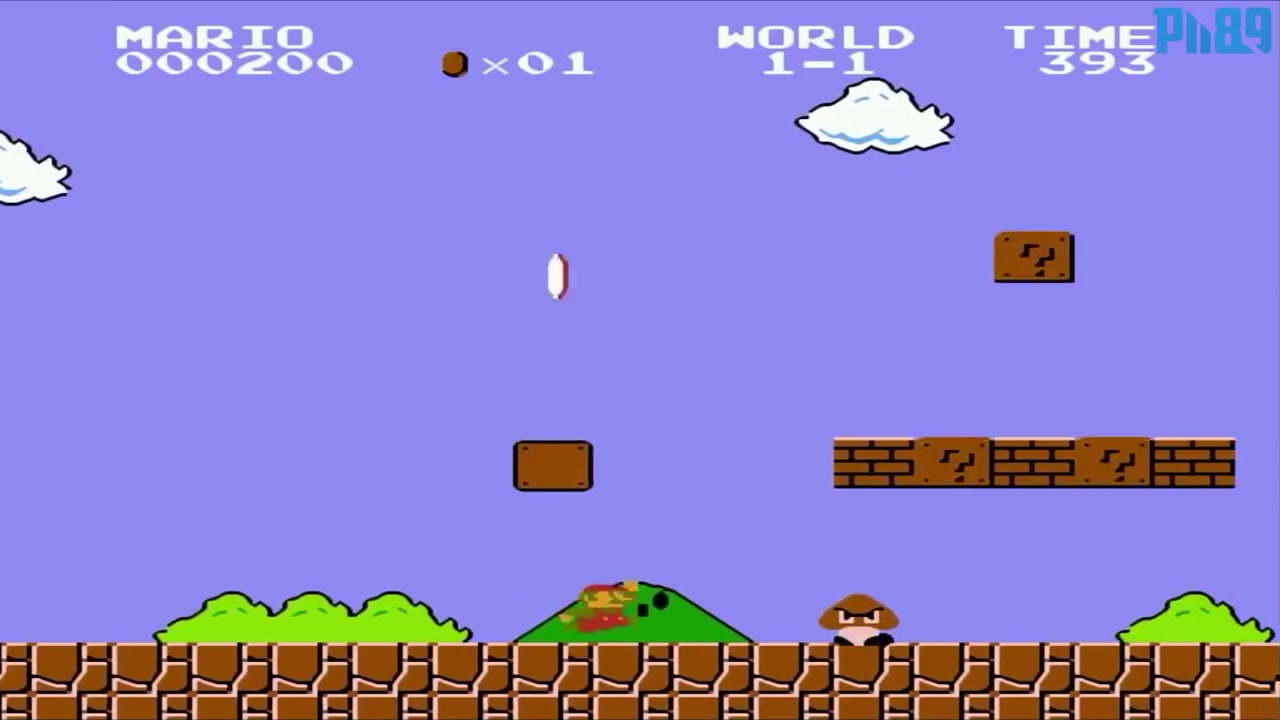mario: (550, 573, 645, 635)
